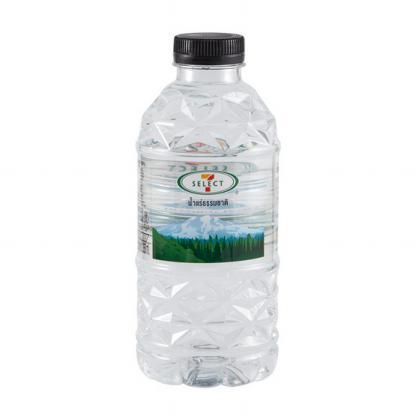bottle: (122, 22, 287, 393)
